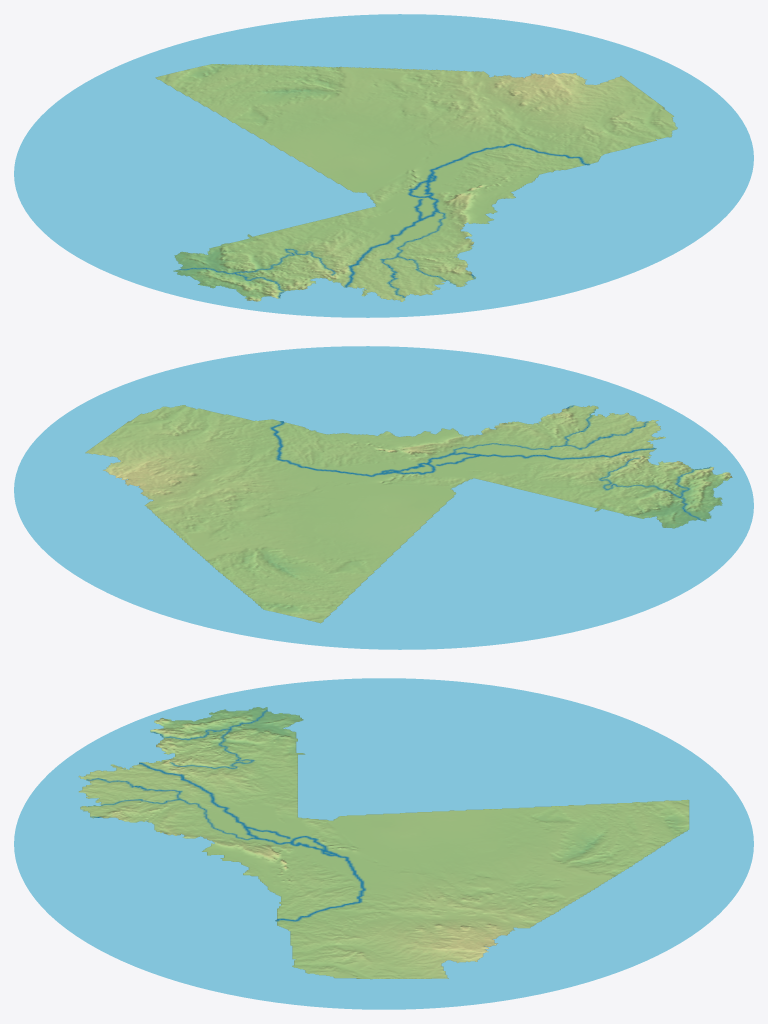
The model's file is MLI-terrain.glb.
3 views of the same model, one above another, from view 1: azimuth 30°, elevation 25°; view 2: azimuth 150°, elevation 25°; view 3: azimuth 270°, elevation 25° (orthographic). The views are drawn at different scales.
Visible parts, largest first — view 1: Relevo com hidrografia; view 2: Relevo com hidrografia; view 3: Relevo com hidrografia.
Part boxes in pixels (x1,y1,x2,y2): Relevo com hidrografia: (14,14,753,317); Relevo com hidrografia: (14,346,753,649); Relevo com hidrografia: (14,678,753,1009).
Bounding box in the file's own units: 1.95 × 0.00974 × 1.84.
2 materials, 1 textured.
